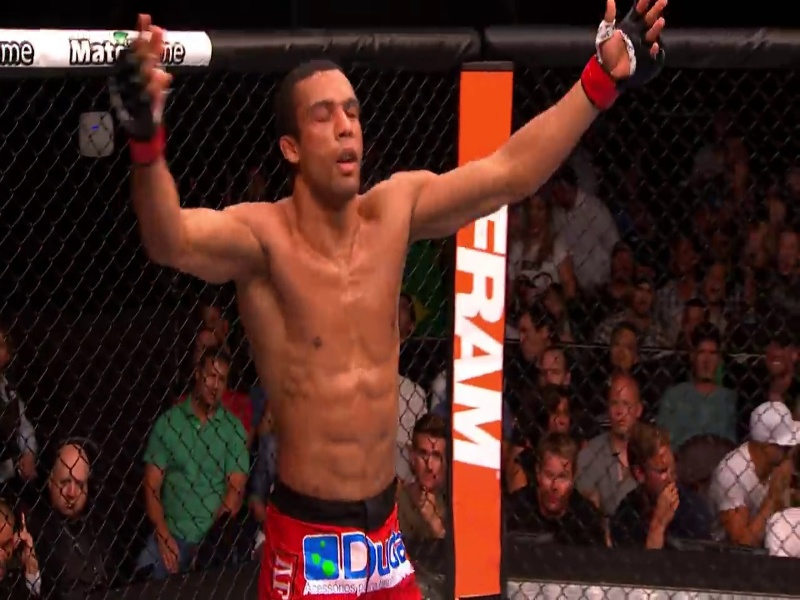fighter: (102, 9, 683, 600)
